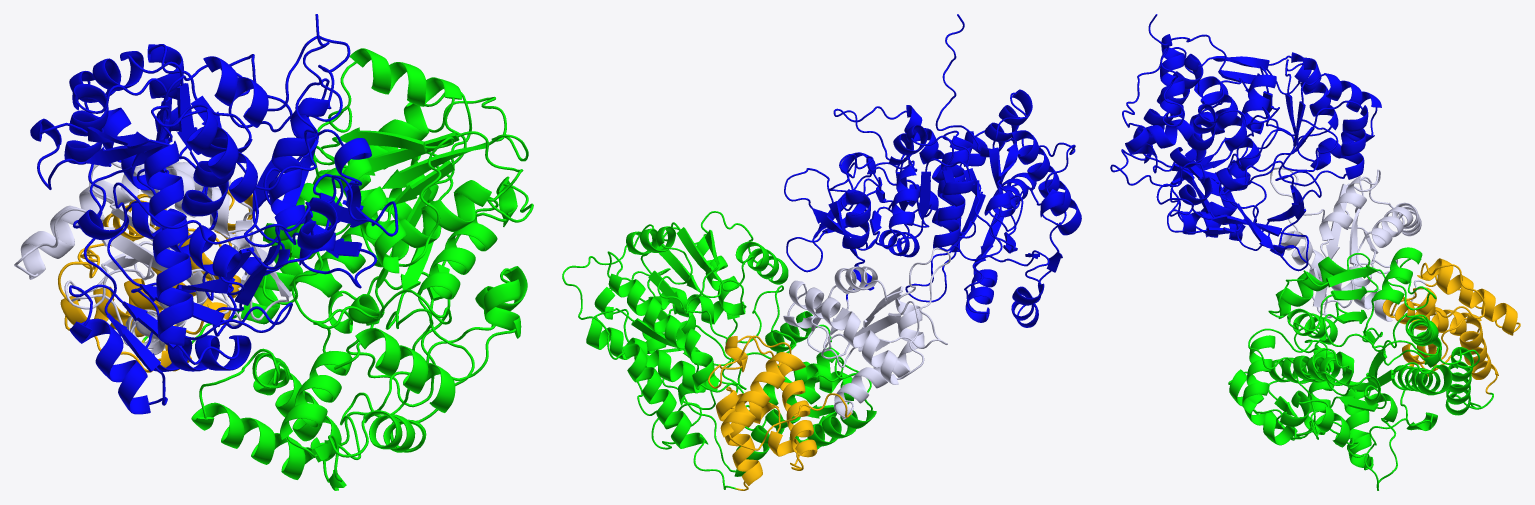
Rendered from overview2.gltf.
3 views of the same model, side by side, from view 1: azimuth 30°, elevation 25°; view 2: azimuth 150°, elevation 25°; view 3: azimuth 270°, elevation 25° (orthographic). The views are drawn at different scales.
Parts seen in each view (by area): view 1: node-geom0, node-geom1, node-geom5, node-geom7, node-geom2, node-geom6, node-geom3, node-geom4, node-geom8; view 2: node-geom5, node-geom4, node-geom3, node-geom0, node-geom2, node-geom6, node-geom1, node-geom7, node-geom8; view 3: node-geom2, node-geom5, node-geom1, node-geom0, node-geom7, node-geom3, node-geom4, node-geom6, node-geom8.
Boxes of the visible parts, x1=… form: node-geom0: x1=30, y1=14, x2=329, y2=371; node-geom1: x1=69, y1=36, x2=350, y2=414; node-geom5: x1=241, y1=48, x2=528, y2=324; node-geom7: x1=191, y1=176, x2=533, y2=490; node-geom2: x1=64, y1=44, x2=398, y2=288; node-geom6: x1=264, y1=92, x2=471, y2=462; node-geom3: x1=14, y1=78, x2=342, y2=354; node-geom4: x1=58, y1=190, x2=327, y2=372; node-geom8: x1=334, y1=288, x2=521, y2=412; node-geom5: x1=562, y1=211, x2=788, y2=448; node-geom4: x1=645, y1=298, x2=924, y2=490; node-geom3: x1=783, y1=168, x2=950, y2=415; node-geom0: x1=935, y1=14, x2=1081, y2=322; node-geom2: x1=786, y1=152, x2=1001, y2=272; node-geom6: x1=586, y1=251, x2=854, y2=449; node-geom1: x1=833, y1=105, x2=1075, y2=327; node-geom7: x1=594, y1=268, x2=876, y2=476; node-geom8: x1=672, y1=304, x2=831, y2=359; node-geom2: x1=1156, y1=57, x2=1381, y2=271; node-geom5: x1=1268, y1=247, x2=1479, y2=415; node-geom1: x1=1122, y1=47, x2=1331, y2=250; node-geom0: x1=1110, y1=14, x2=1311, y2=240; node-geom7: x1=1228, y1=326, x2=1386, y2=470; node-geom3: x1=1235, y1=167, x2=1421, y2=319; node-geom4: x1=1286, y1=232, x2=1520, y2=414; node-geom6: x1=1248, y1=313, x2=1452, y2=490; node-geom8: x1=1242, y1=335, x2=1310, y2=426.
Size of the model in its own units: 92.32 by 92.66 by 85.74.
